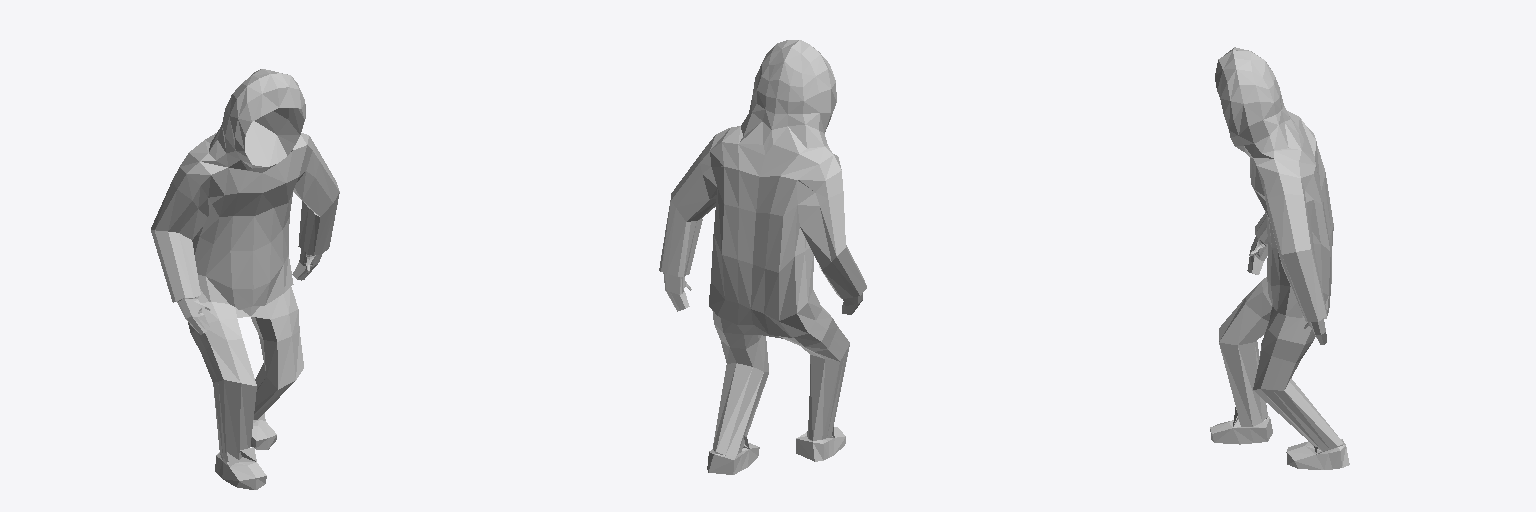
The model's file is Shadowmanv_000058.obj.
3 renders of one model, left to right at view 1: azimuth 30°, elevation 25°; view 2: azimuth 150°, elevation 25°; view 3: azimuth 270°, elevation 25°, orthographic.
Visible parts, largest first — view 1: Cube.000; view 2: Cube.000; view 3: Cube.000.
Boxes of the visible parts, <box> form: Cube.000: <box>151,69,339,489</box>; Cube.000: <box>659,40,866,474</box>; Cube.000: <box>1210,47,1349,469</box>.
Bounding box in the file's own units: 5.11 × 10.96 × 3.44.